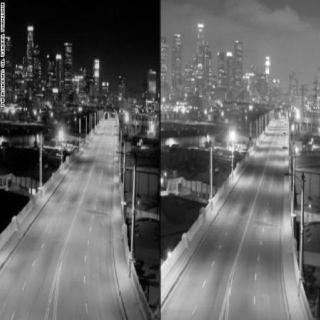other: (215, 126, 237, 154), (54, 124, 70, 154), (121, 110, 133, 129), (149, 118, 156, 136)
